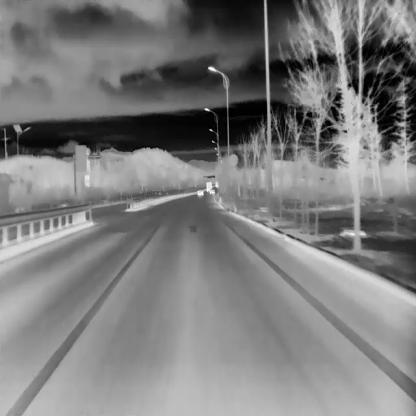car: (206, 180, 212, 191), (197, 189, 203, 195), (210, 189, 215, 194)
